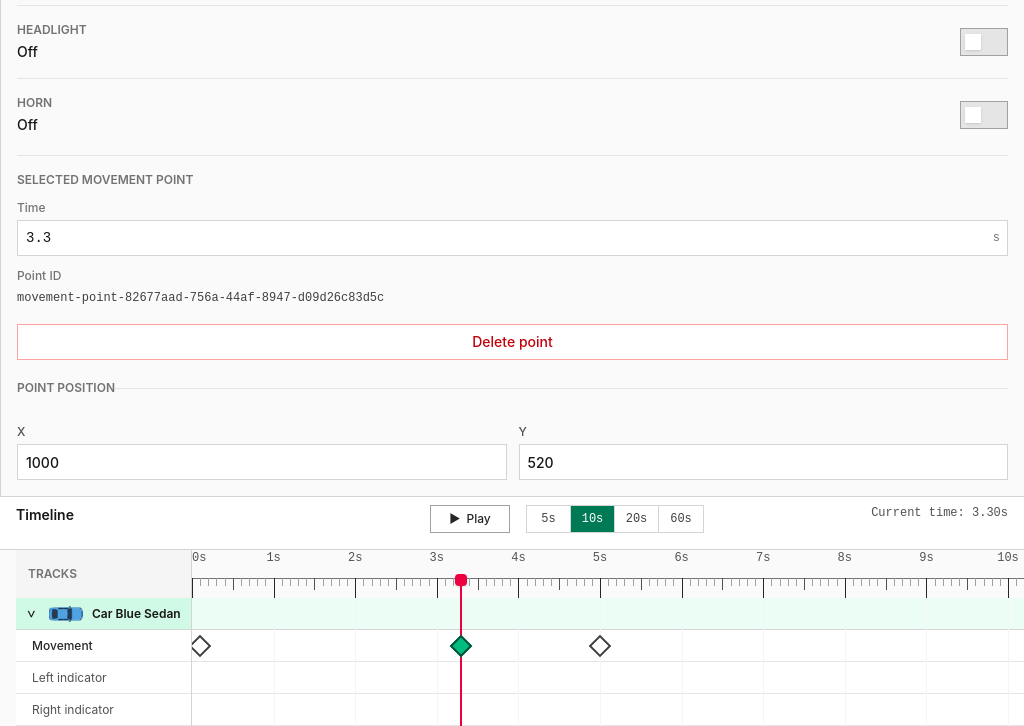
Scenario: F3.10 Movement Point deletion › confirms deletion for a selected non-initial Point
(page scrolled)
Expected: the button named "Select movement point at 3.30 seconds" is shown, [453, 638, 469, 654]
Click the button "Delete point" at (512, 342), box [17, 324, 1008, 360]
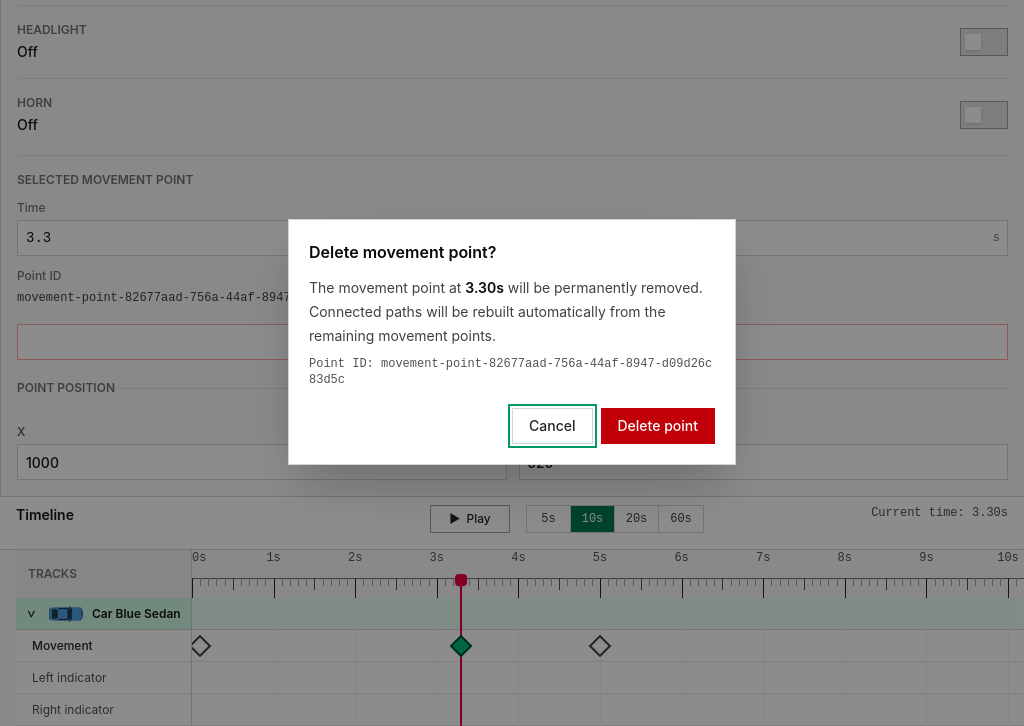
Expected: the button named "Select movement point at 3.30 seconds" is shown, [453, 638, 469, 654]
Result: the dialog shows "Delete movement point?" at [309, 242, 496, 262]
Result: the dialog shows "3.30s" at [288, 219, 736, 465]
Click the button "Delete point" at (658, 426), box [600, 408, 715, 444]
(page scrolled)
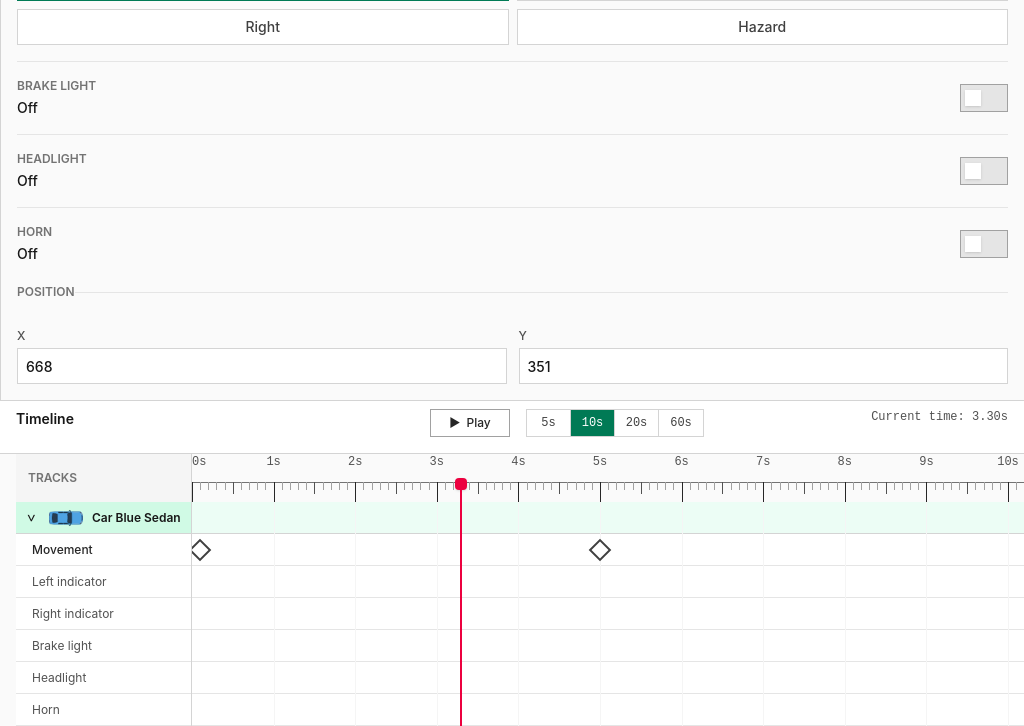
Expected: the text "Position" is shown, [17, 284, 75, 300]
Result: the text "Selected movement point" is gone
Result: the text "Delete point" is gone
